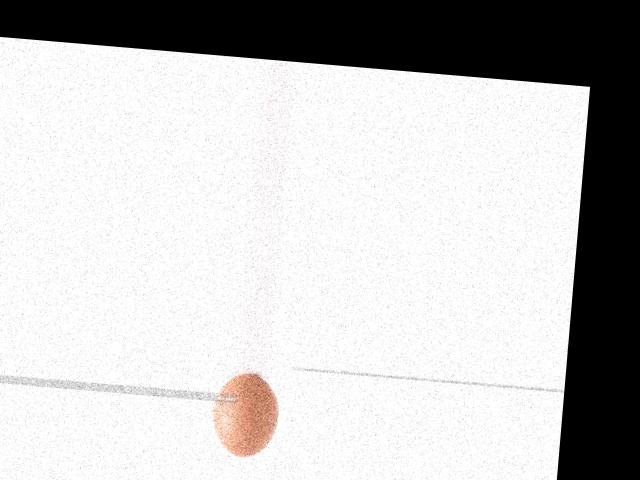egg: (209, 372, 281, 459)
